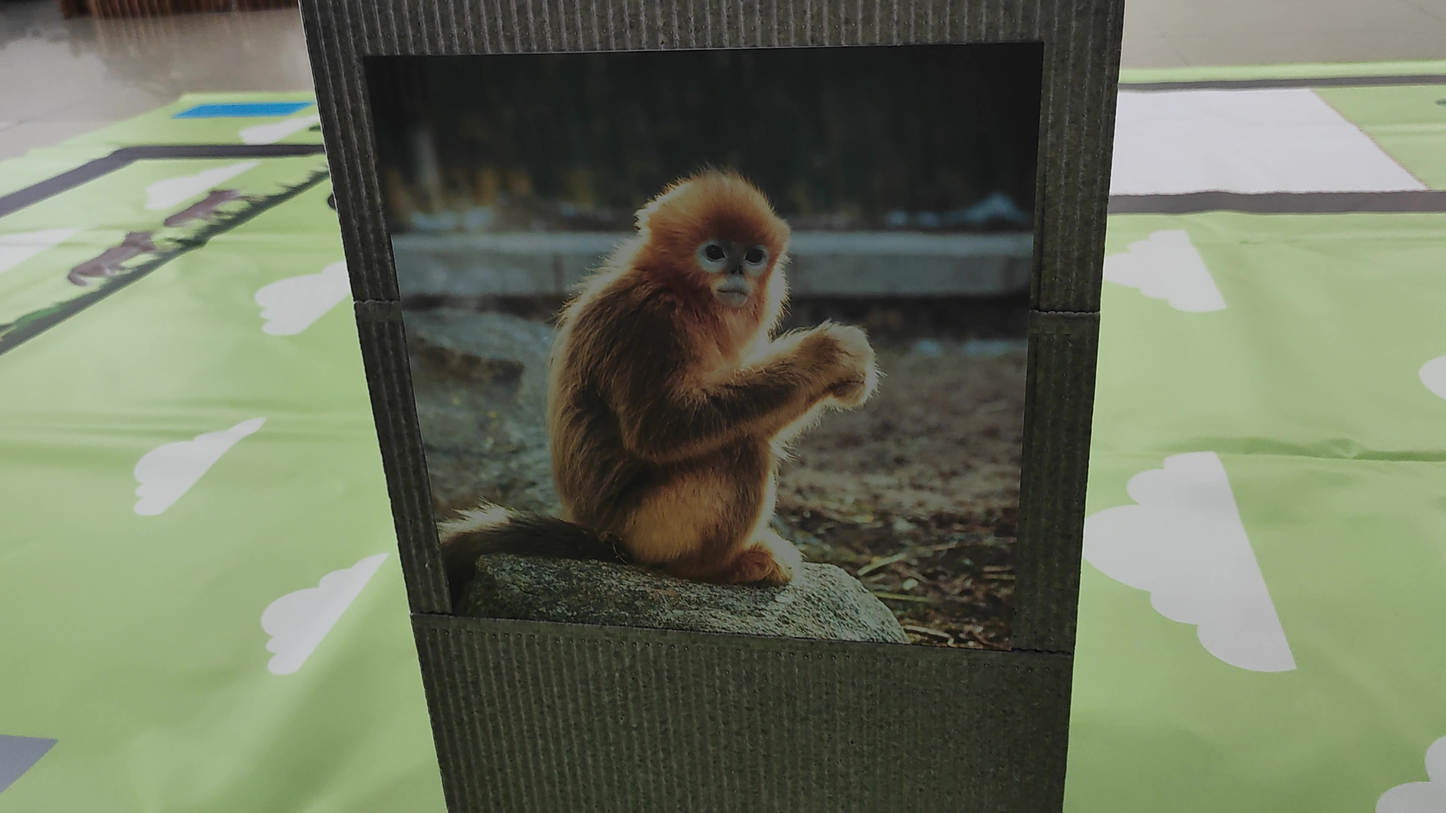monkey: (417, 122, 886, 633)
